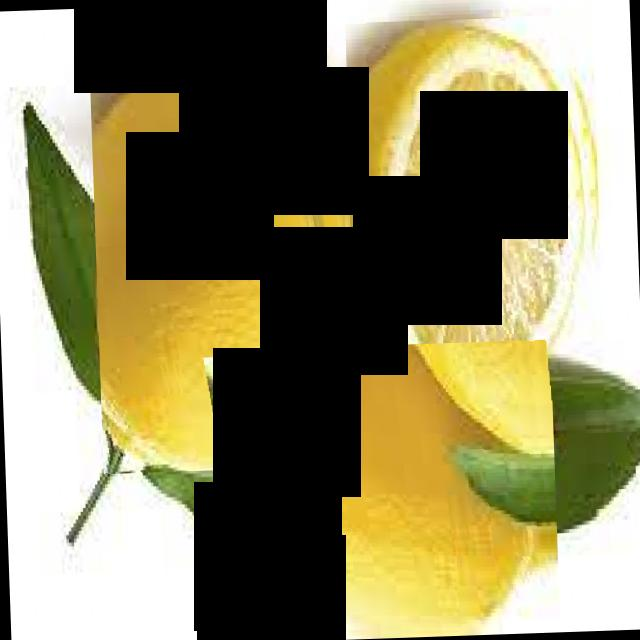lemon: (89, 54, 368, 473), (345, 13, 608, 414), (220, 339, 560, 640)
